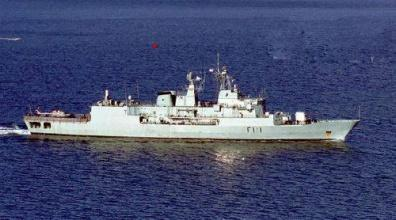warship: (23, 67, 361, 138)
